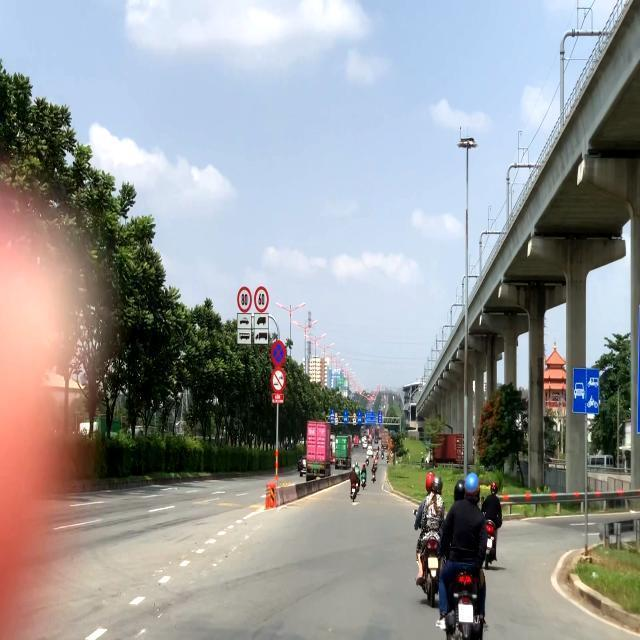127-toc-do-toi-da-60: (254, 286, 270, 314)
127-toc-do-toi-da-80: (236, 287, 252, 313)
130-cam-dung-va-do-xe: (270, 340, 286, 368)
